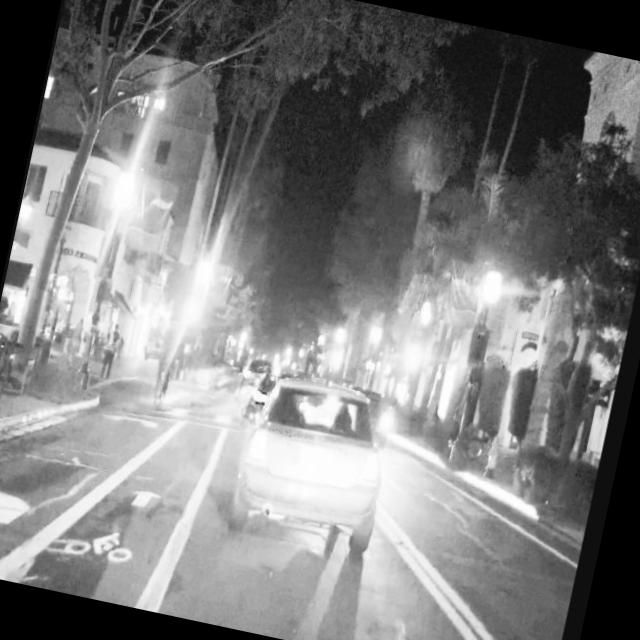Tree: (0, 0, 175, 411), (525, 137, 640, 517)
